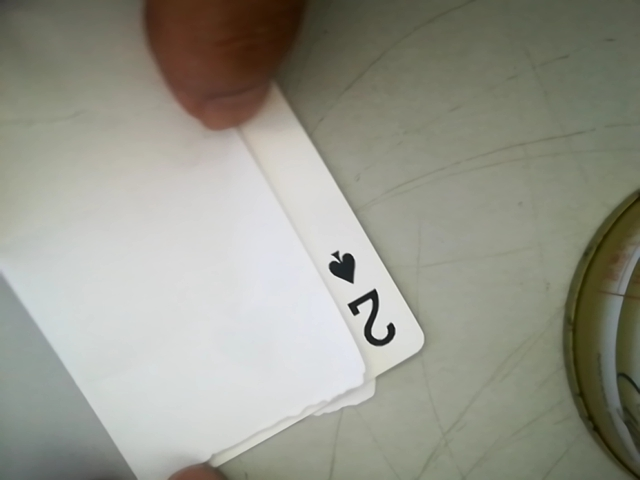ht 2: (321, 239, 406, 363)
